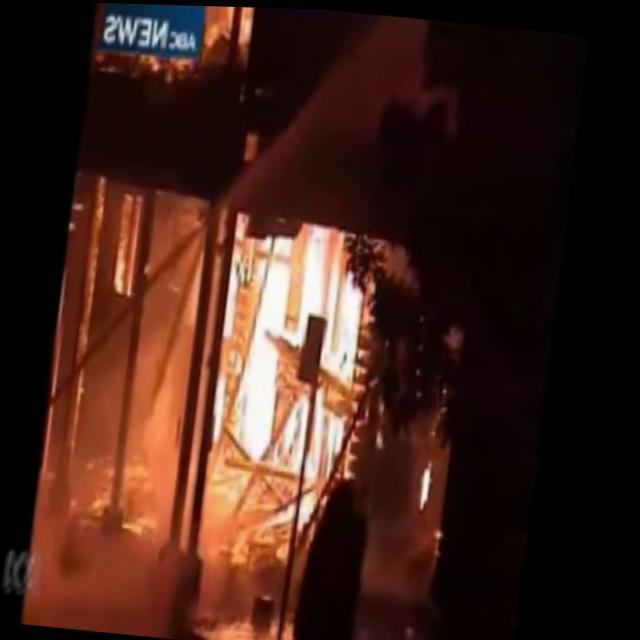fire: (241, 263, 291, 462), (324, 284, 369, 387), (301, 223, 336, 317)
